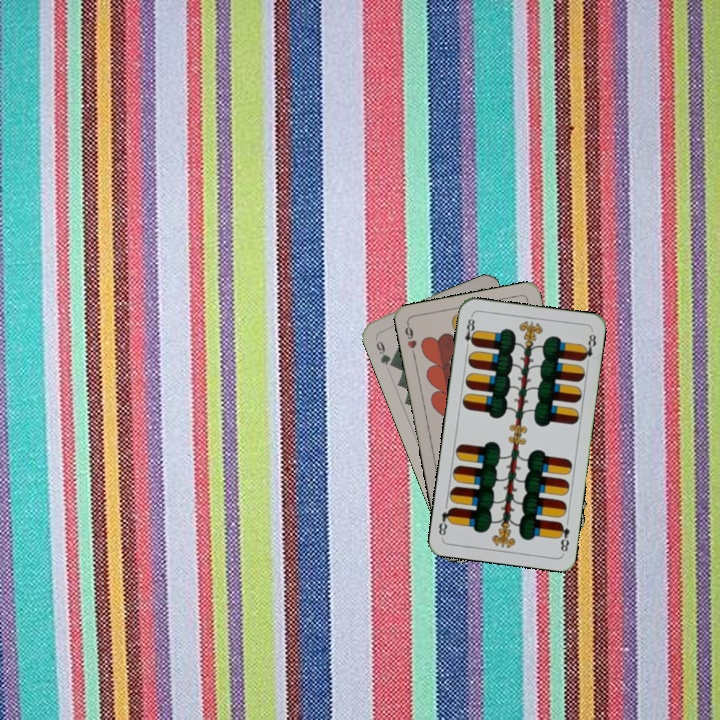E8: (460, 312, 479, 353), (554, 518, 572, 555)
G9: (371, 333, 397, 370)
H9: (401, 320, 419, 360)
